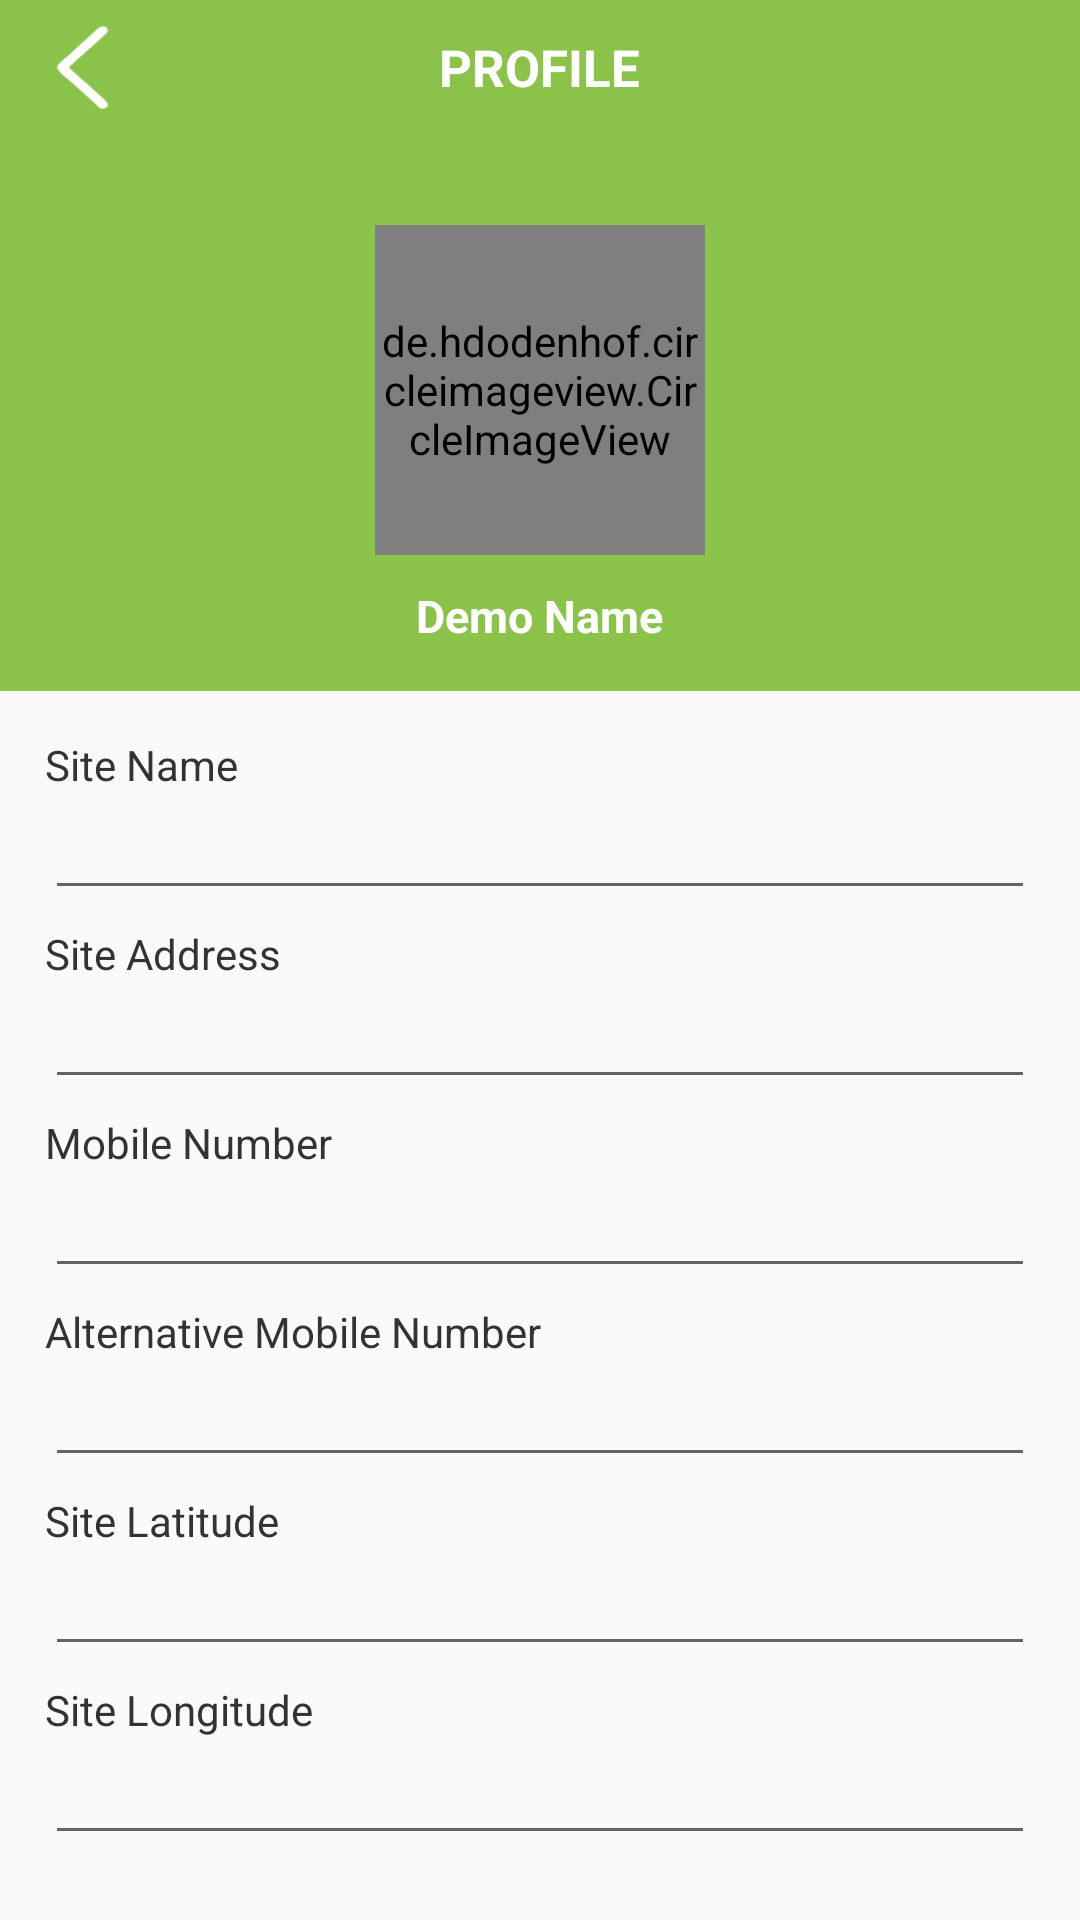

Icons on this 1080px×1920px Android screen, each with its box as (x1, y1, x2, y2):
back arrow: (57, 26, 109, 109)
